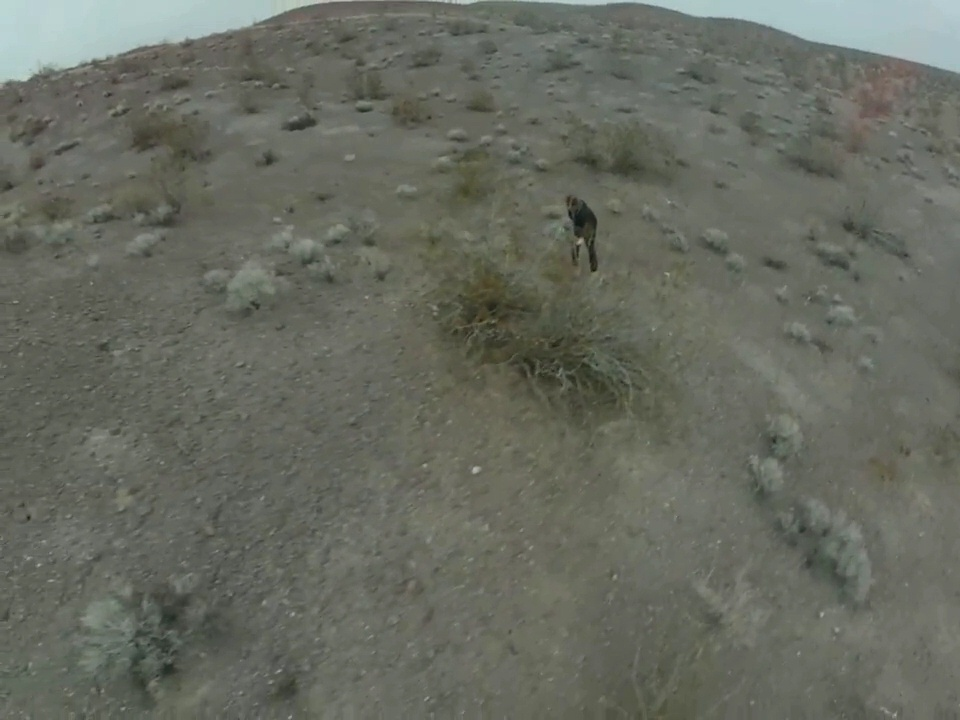insan: (564, 192, 604, 280)
